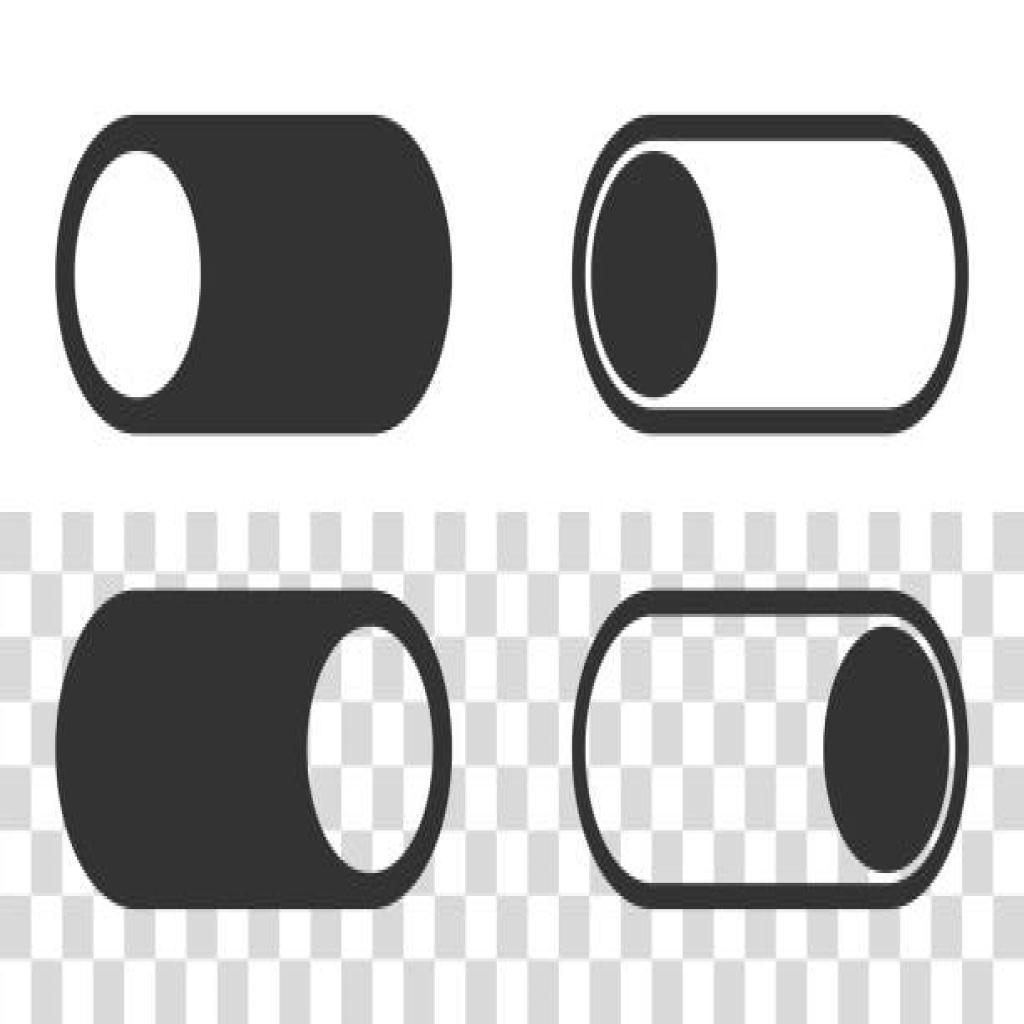switch: (570, 115, 975, 437), (55, 589, 457, 910), (572, 591, 972, 912), (54, 116, 455, 435)
